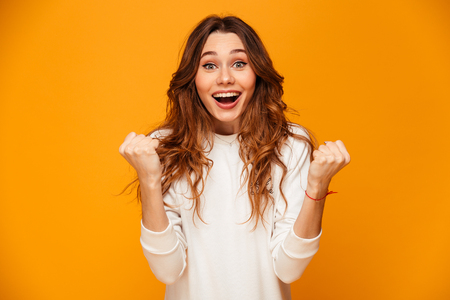NoMask: (201, 45, 248, 122)
